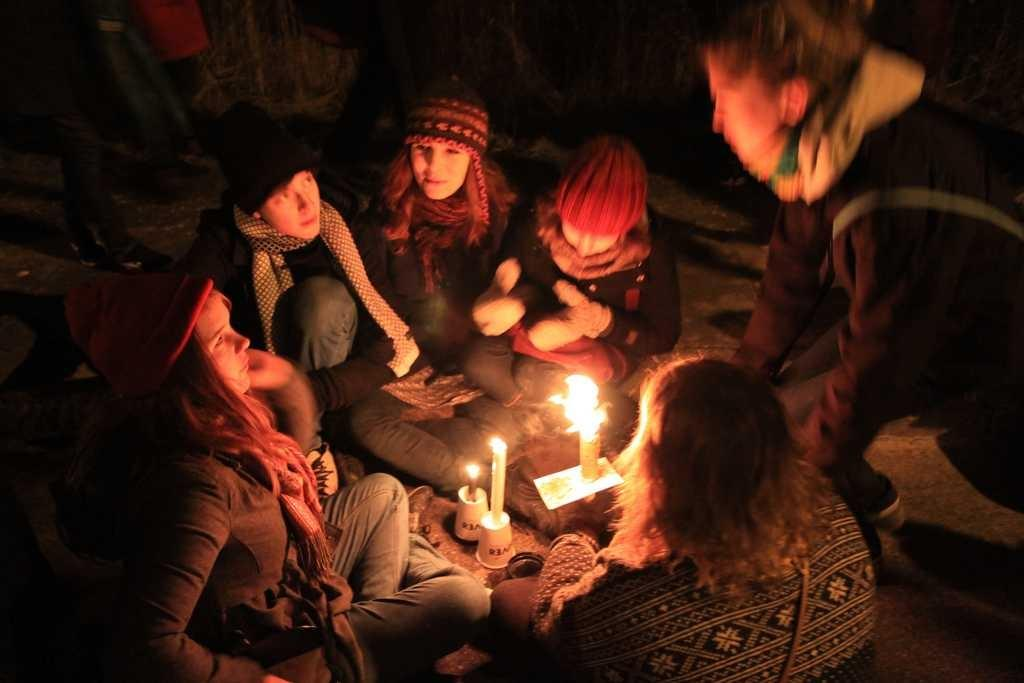fire: (560, 380, 603, 437), (490, 435, 507, 455), (495, 433, 512, 453), (468, 460, 482, 483), (467, 462, 480, 477)
